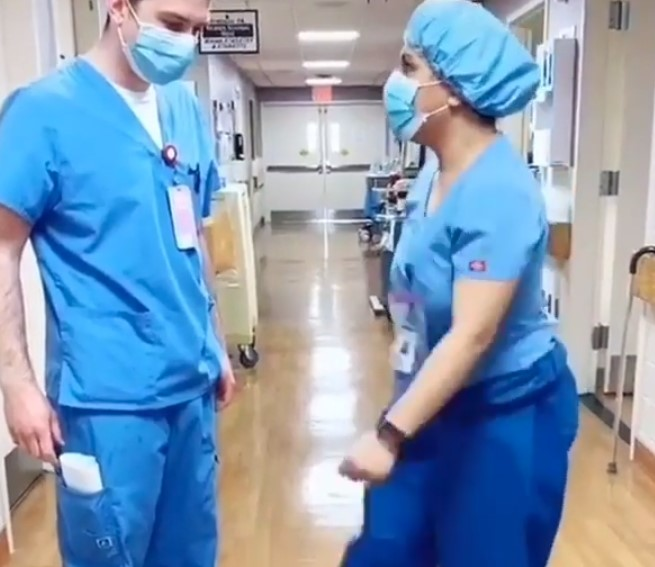face_with_mask: (382, 4, 541, 139), (108, 4, 212, 86)
